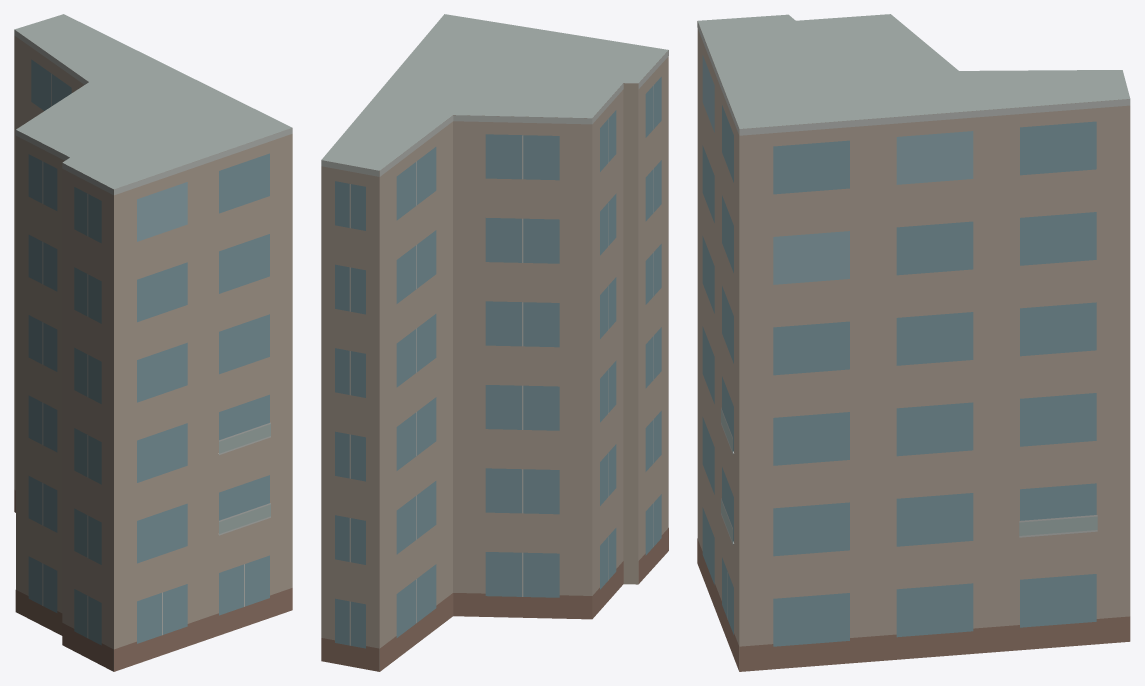
The model's file is survey-upis-32814675.glb.
The picture shows the model from 3 angles, left to right: view 1: azimuth 30°, elevation 25°; view 2: azimuth 150°, elevation 25°; view 3: azimuth 270°, elevation 25°; orthographic projection. The views are drawn at different scales.
Parts seen in each view (by area): view 1: survey-upis-32814675.tmp; view 2: survey-upis-32814675.tmp; view 3: survey-upis-32814675.tmp.
Boxes of the visible parts, box(x1,y1,x2,y2) form: survey-upis-32814675.tmp: box(14, 14, 292, 671); survey-upis-32814675.tmp: box(321, 14, 668, 671); survey-upis-32814675.tmp: box(697, 14, 1130, 671).
Size of the model in its own units: 9.01 by 19.8 by 14.32.
